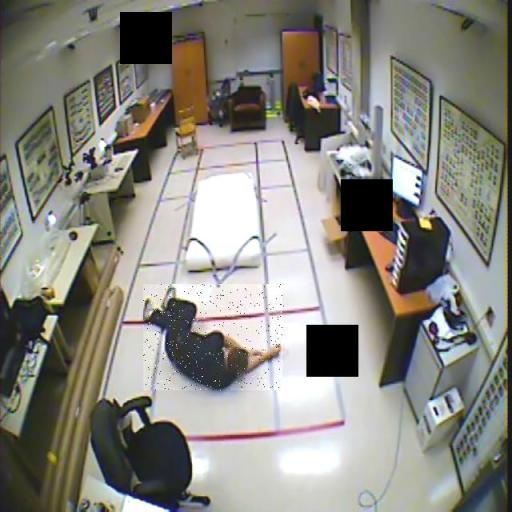Fall: (144, 284, 285, 390)
